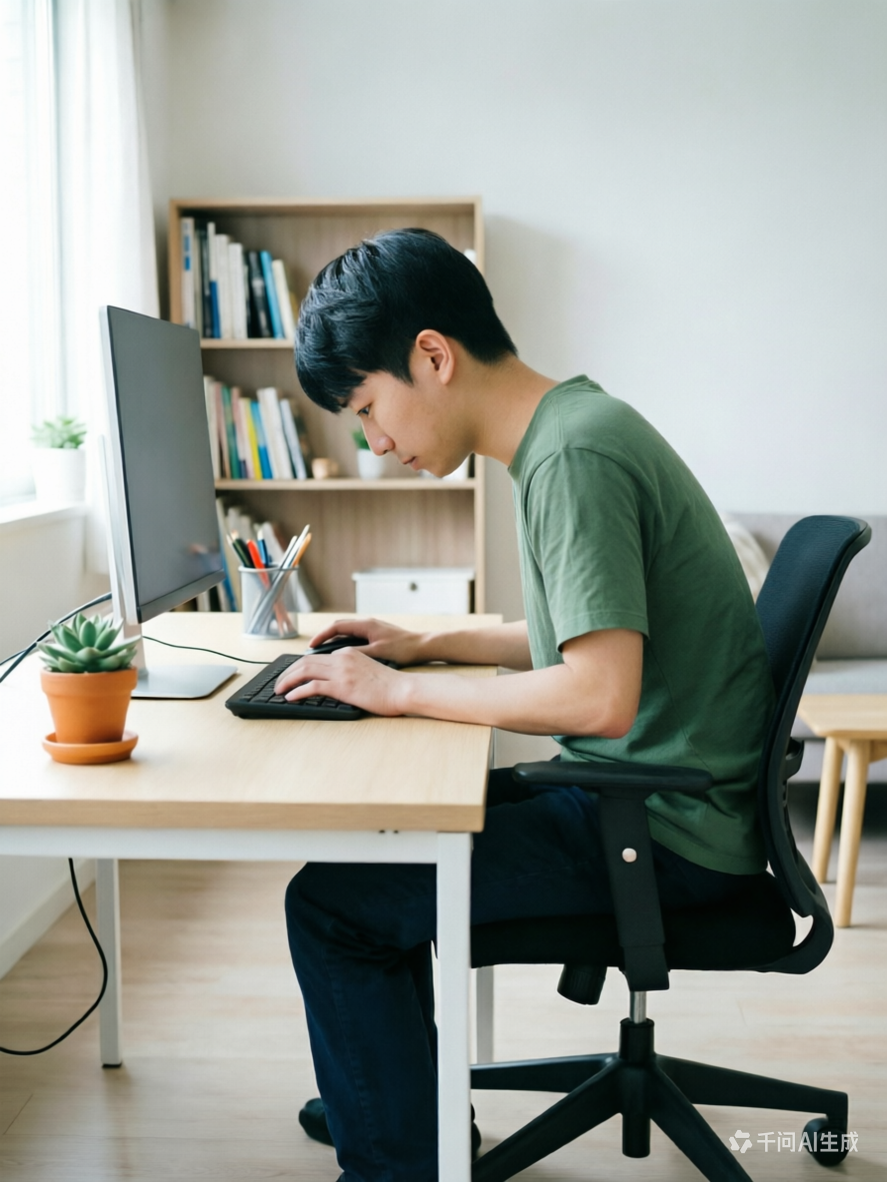sitting_bad: (261, 229, 787, 1169)
